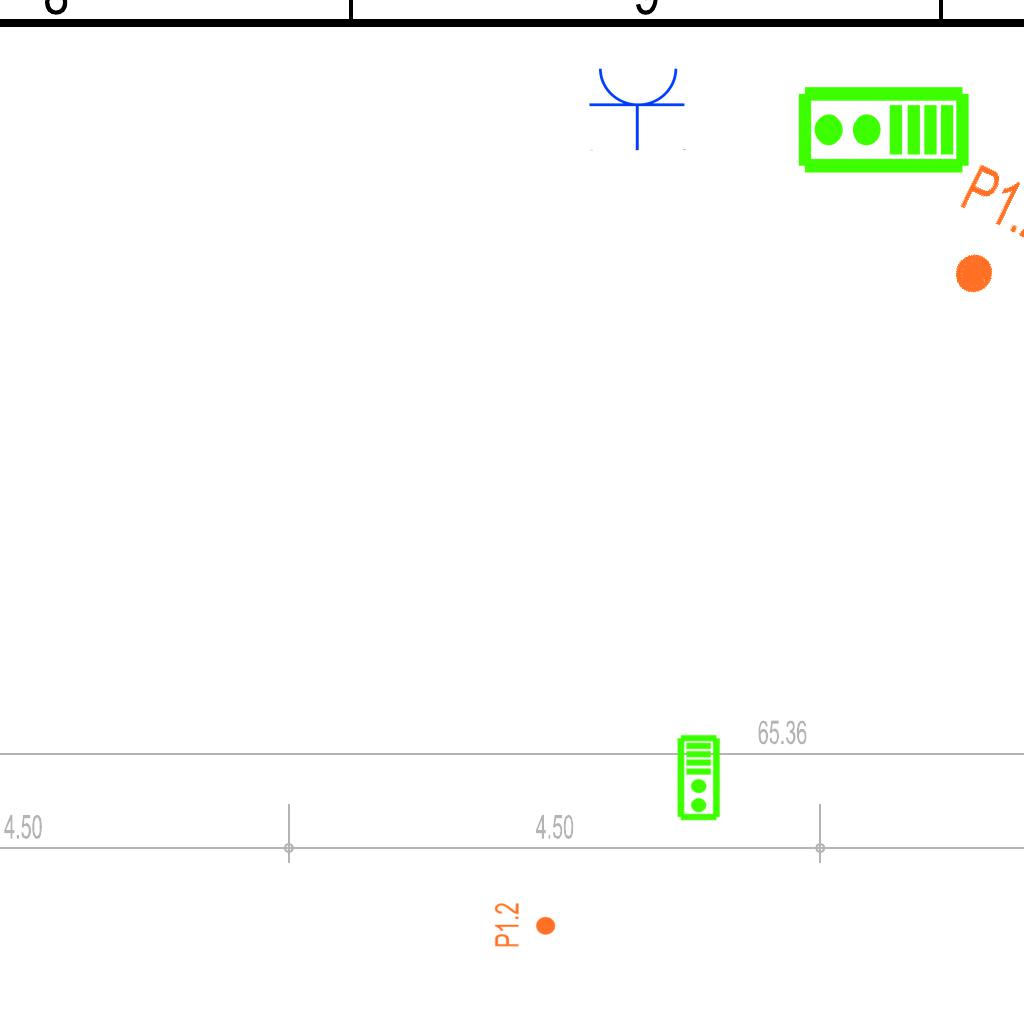Downlight_LED_Einbauleuchten_Flur: (923, 159, 1024, 315), (493, 902, 557, 948)
Gegensprechanlage_mit_Video: (795, 84, 971, 179), (676, 734, 723, 822)
Schukosteckdose_einfach: (588, 64, 688, 151)
